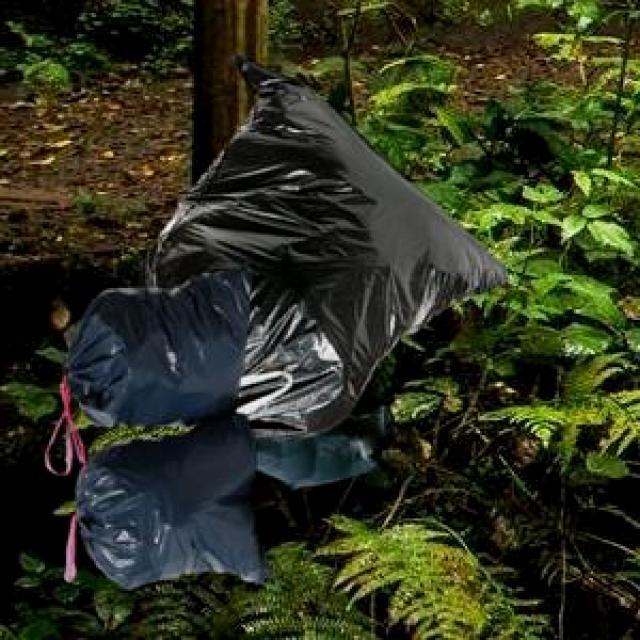Trashbag: (74, 415, 273, 592), (64, 259, 254, 431)
